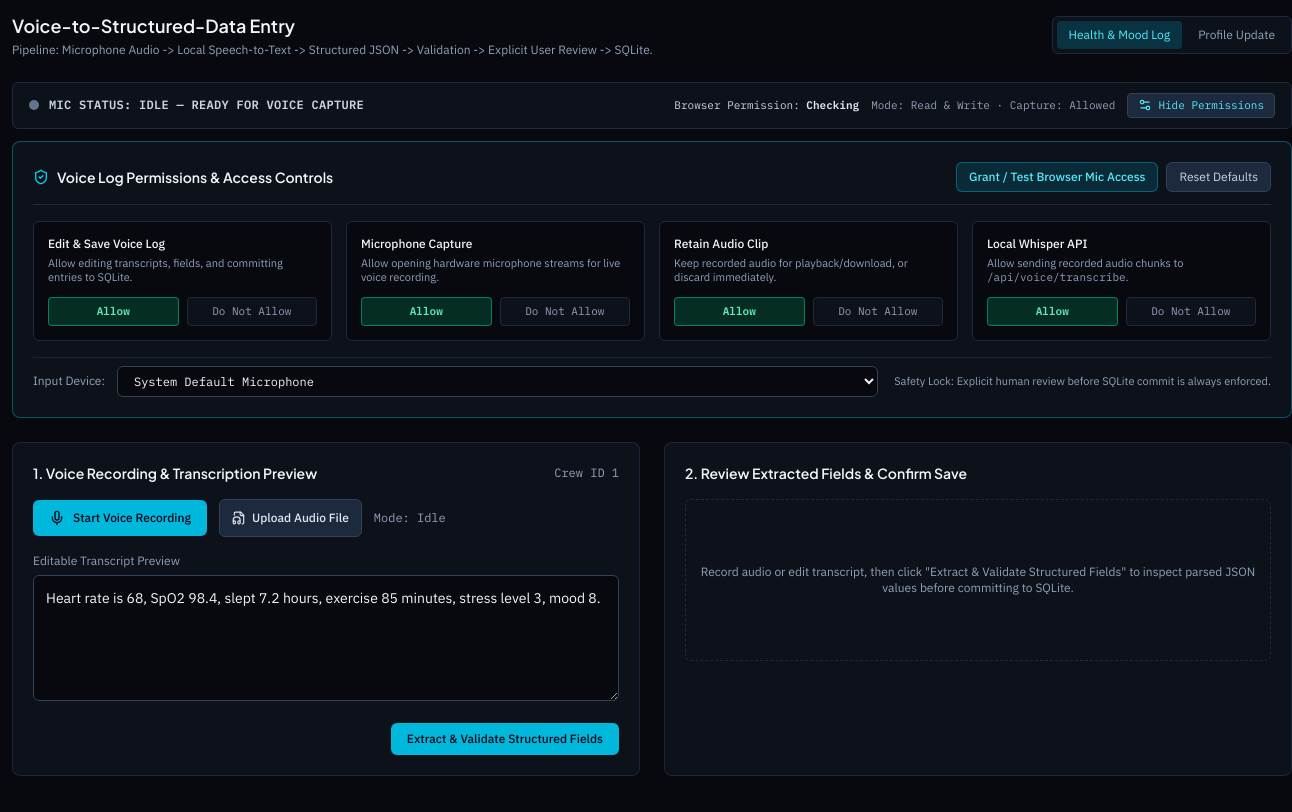
Test: Aegis Orbital Health — Frontend Component Tests › runs VoicePage extraction and requires explicit user confirmation before save
The width and height of the screenshot is (1292, 812).
Click the button "Extract & Validate Structured Fields". click: click(505, 739)
box: [391,723,619,755]
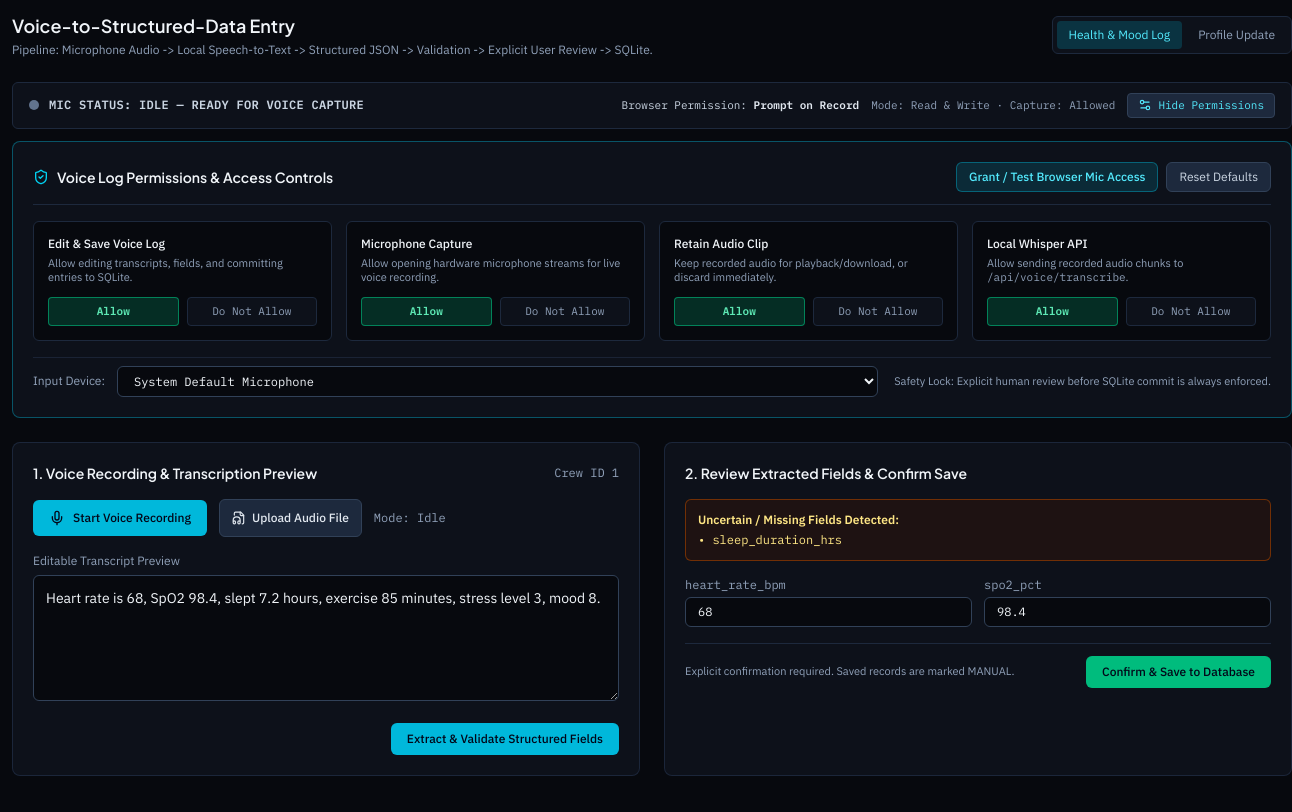
Expected: the button "Confirm & Save to Database" is shown, [1086,656,1271,688]
Expected: the text "Explicit confirmation required" is shown, [685,664,1014,678]
